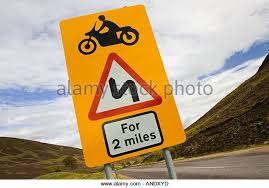Double_bend_left: (82, 46, 172, 121)
